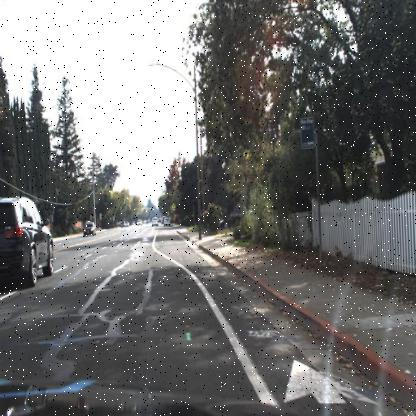car: (0, 189, 59, 295), (79, 218, 99, 238), (149, 215, 161, 230), (161, 216, 173, 228)
